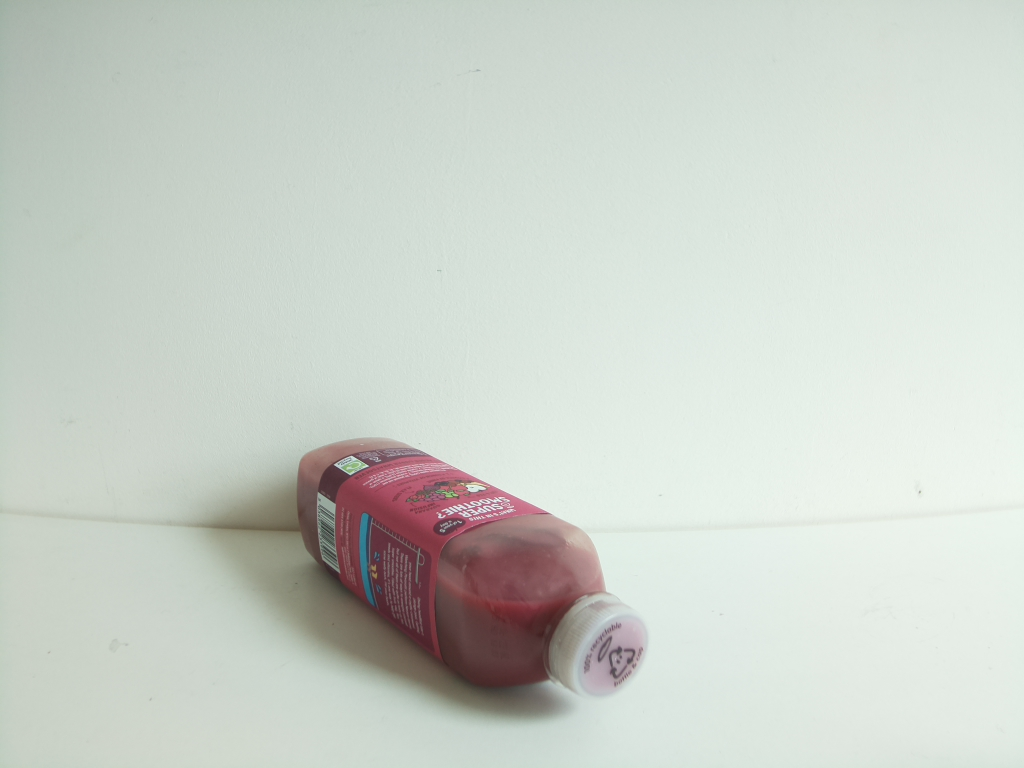juice: (291, 433, 654, 703)
